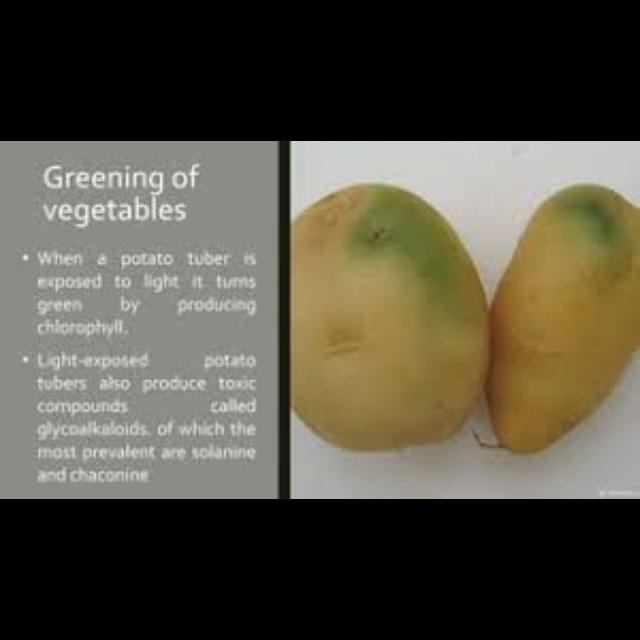Defected potato: (292, 186, 488, 448), (492, 178, 640, 460)
